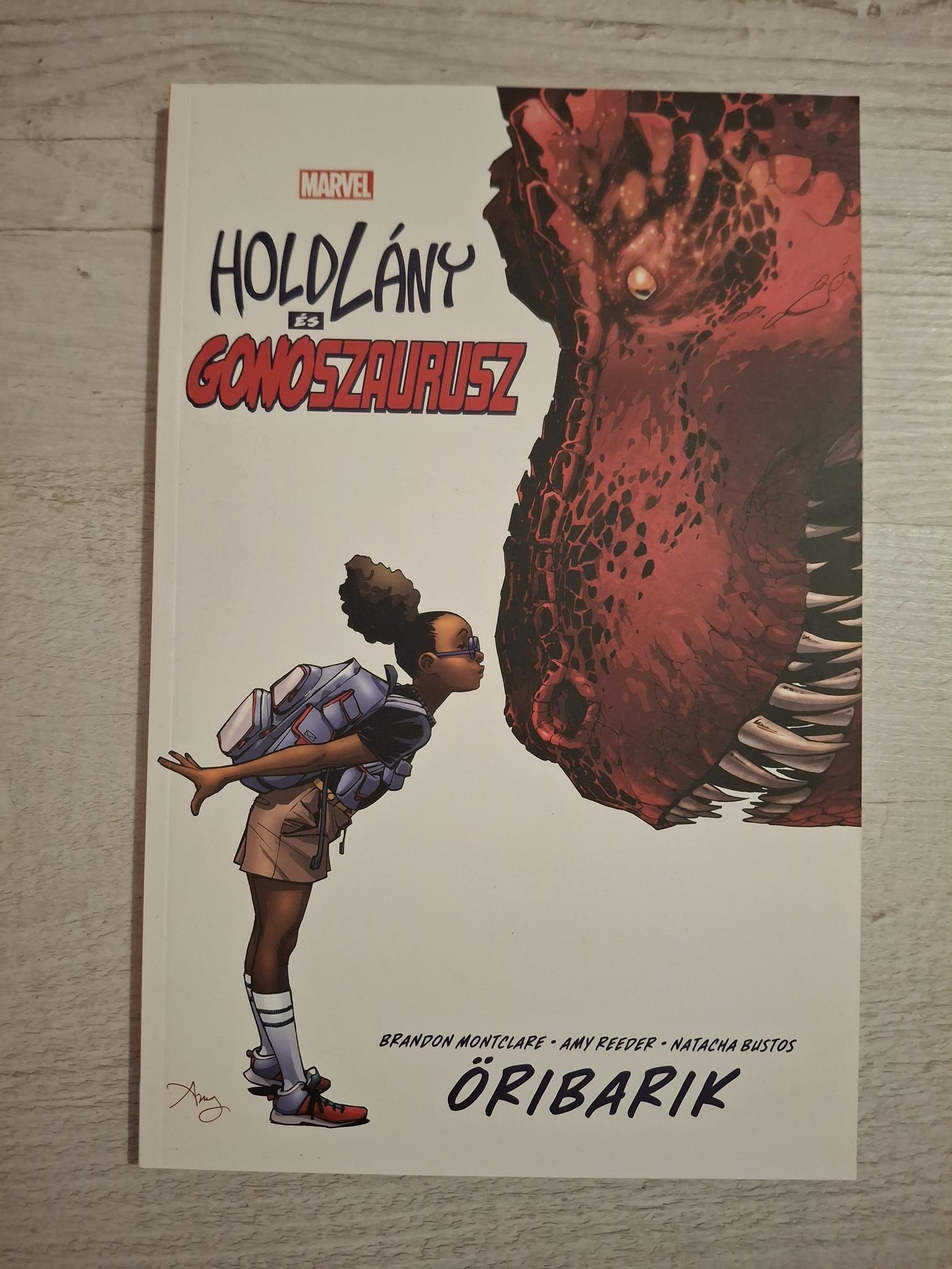comic: (141, 84, 866, 1178)
